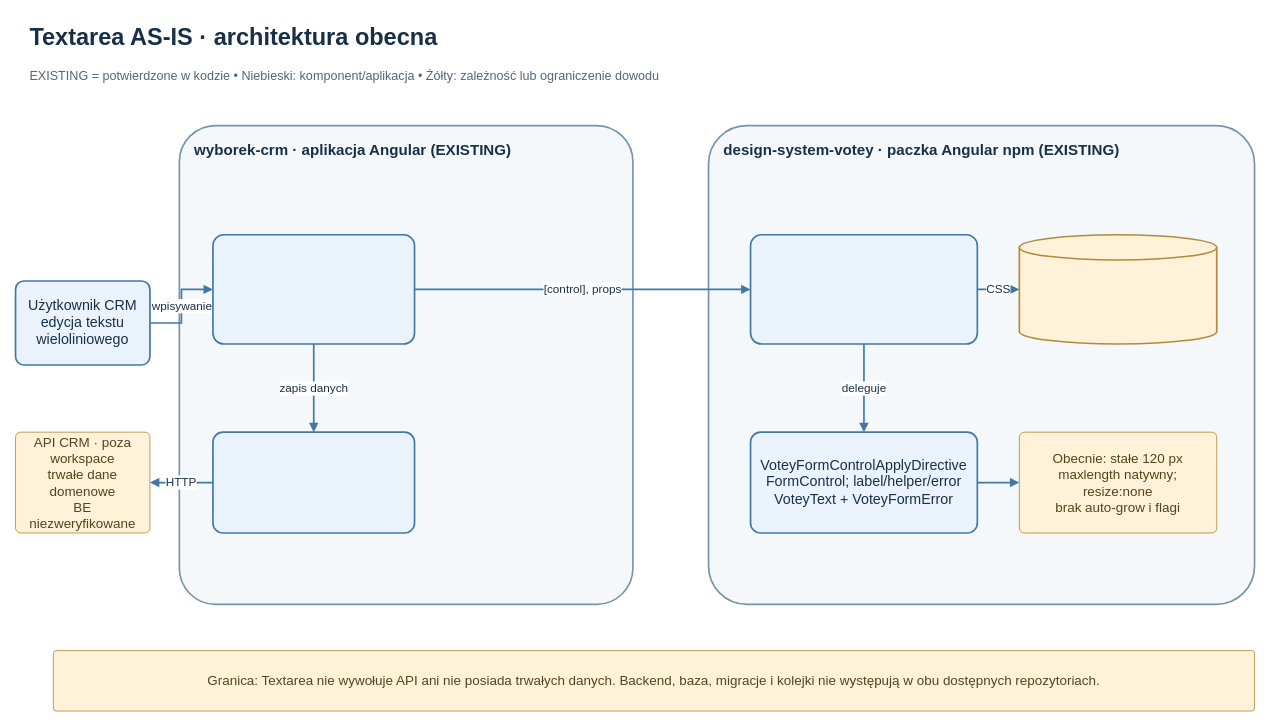
The diagram is 1269 pixels wide and 726 high, and some of its shapes have lost their labels. Each missing label, with the centre of its shape:
CSS tokens.angular.css Light/Dark + starsze zmienne w stylu Textarea: the point at 1117,289
Formularze CRM tłumaczenia, agenda, pytania FormControl + walidatory: the point at 313,289
Serwisy domenowe CRM zapis formularzy przez HTTP poza kontraktem Textarea: the point at 313,482
VoteyTextAreaComponent <vt-text-area> nativeness textarea + Reactive Forms: the point at 863,289
